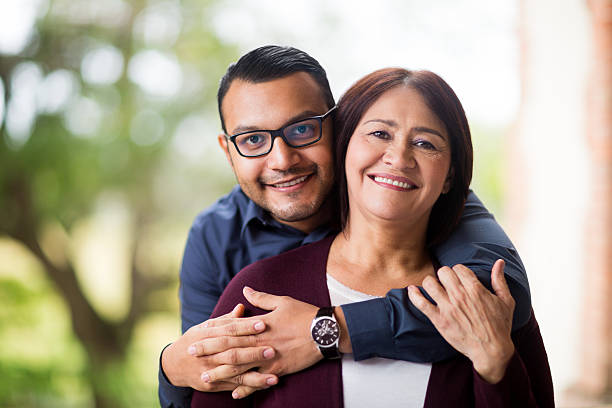without mask: (216, 61, 335, 226), (342, 83, 454, 220)
